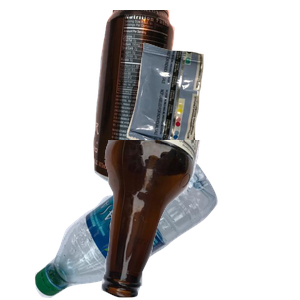glass: (99, 140, 300, 300)
metal: (91, 10, 258, 188)
plastic: (32, 154, 242, 300)
trash: (124, 40, 300, 188)
